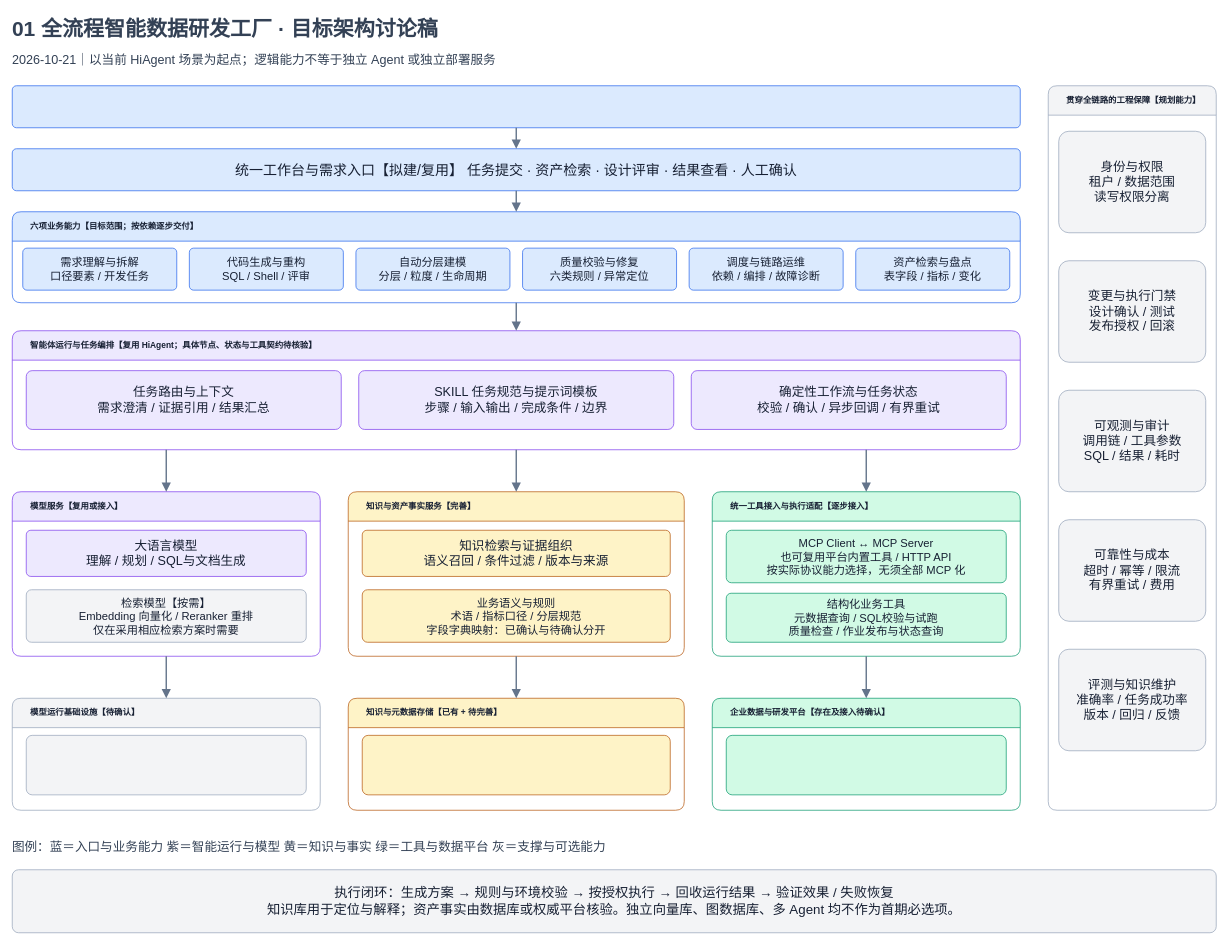
Some shapes in this 1229 by 945 pixel diagram are drawn without their labels. The shapes that lost their labels are listed below. From the top down, each one's centre as x and y in pixels, then its label:
At point (516, 106): "业务人员 / 分析人员 / 数据研发 / 运维人员 → 对话、需求文档、会议纪要、设计稿、SQL 与告警输入".
At point (166, 765): "企业模型服务或外部模型 API 推理算力 / 网络连通 / 配额 / 模型版本 检索模型可由知识库平台托管".
At point (516, 765): "【已有】知识库、表结构与字典元数据 【待完善】业务口径、规则、版本与快照 【可选】独立向量库 / 全文索引 / 图存储".
At point (866, 765): "业务库 / 数仓 / 数据接入与计算引擎 代码仓库与发布 / 调度 / 质量平台 资产目录 / 血缘 / 日志与监控".
